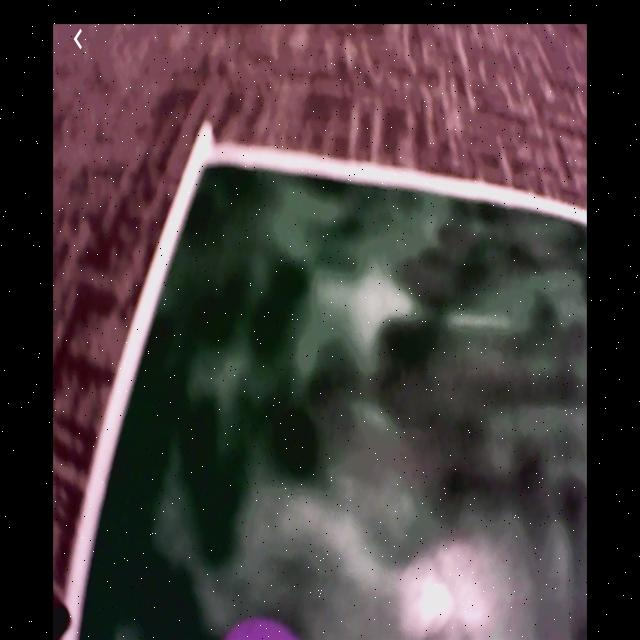ball: (224, 614, 300, 640)
